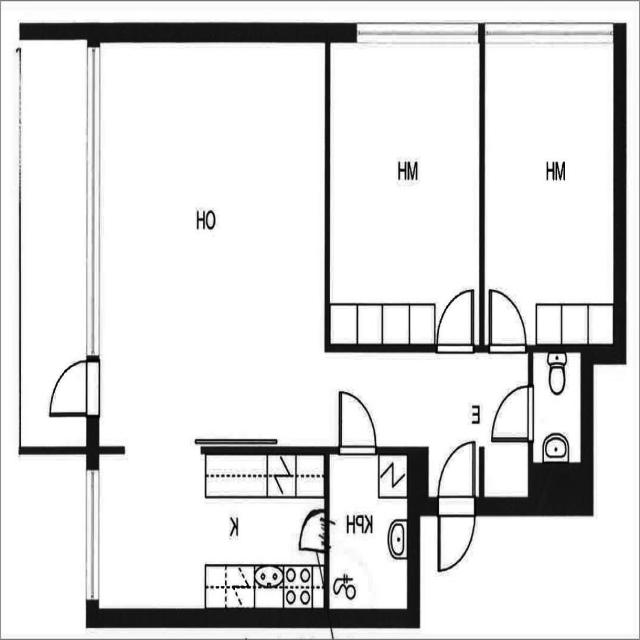door: (432, 433, 481, 578), (43, 352, 102, 420), (332, 383, 384, 457), (431, 280, 480, 358), (483, 284, 534, 356), (488, 378, 539, 447), (434, 509, 476, 576)
window: (81, 27, 106, 360), (349, 15, 476, 56), (486, 15, 614, 55), (81, 460, 102, 608)
zone: (96, 32, 327, 448), (326, 30, 485, 349), (481, 29, 617, 347), (91, 449, 332, 615), (326, 450, 411, 618), (530, 345, 584, 473)
